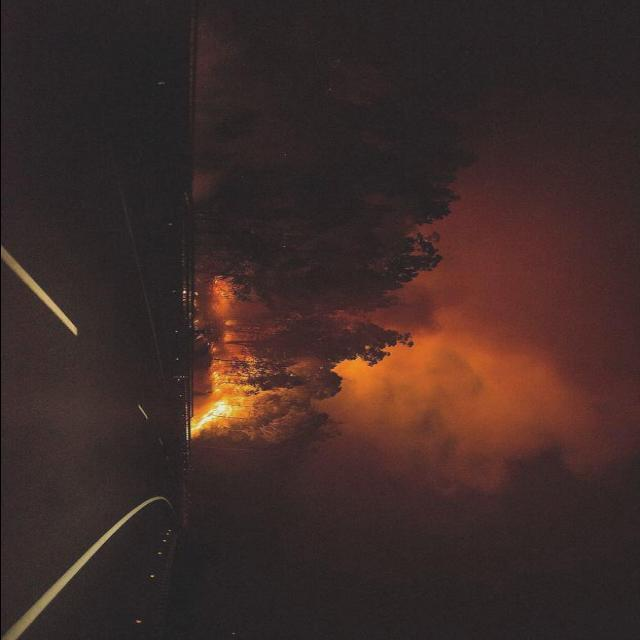Fire: (187, 377, 252, 435), (216, 274, 240, 346)
